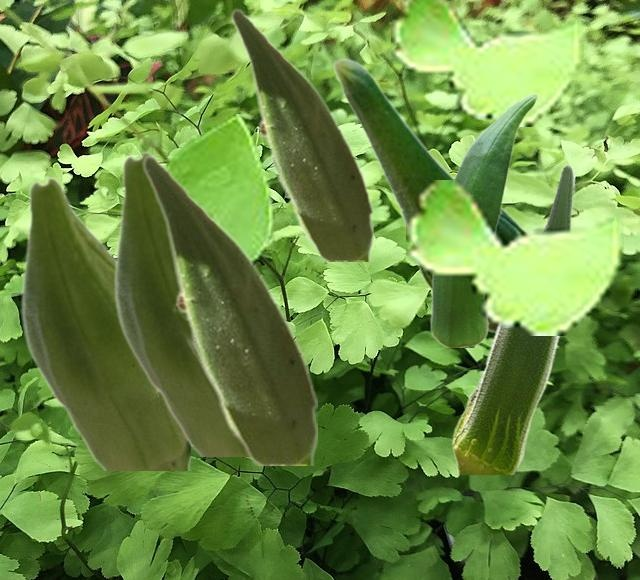okra: (141, 153, 316, 464), (332, 57, 525, 333), (20, 176, 189, 469), (113, 150, 245, 455), (451, 162, 574, 473), (230, 7, 372, 260), (429, 93, 537, 346)
